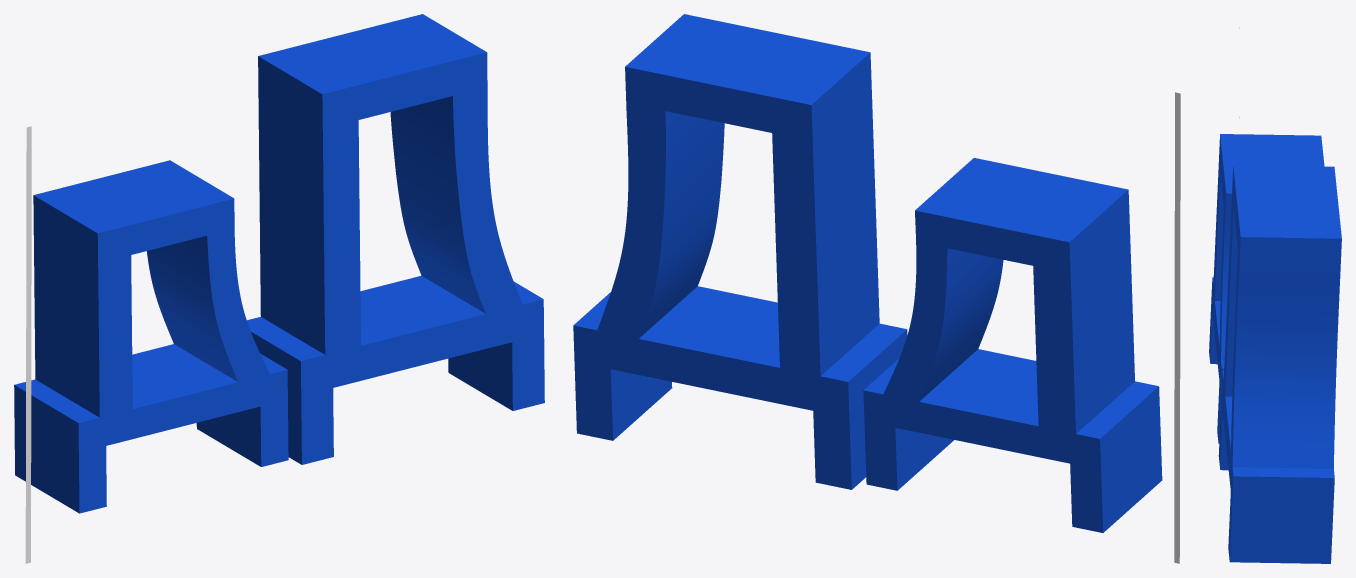
3 views of the same model, side by side, from view 1: azimuth 30°, elevation 25°; view 2: azimuth 150°, elevation 25°; view 3: azimuth 270°, elevation 25° (orthographic). The views are drawn at different scales.
Parts seen in each view (by area): view 1: Mesh_0.004, Плоскость; view 2: Mesh_0.004, Плоскость; view 3: Mesh_0.004.
Boxes of the visible parts, x1,y1,x2,y2 form: Mesh_0.004: (14,14,544,513); Плоскость: (25,126,31,563); Mesh_0.004: (573,14,1162,532); Плоскость: (1174,92,1180,563); Mesh_0.004: (1209,134,1341,563).
Bounding box in the file's own units: 11.54 × 9.38 × 3.05.
